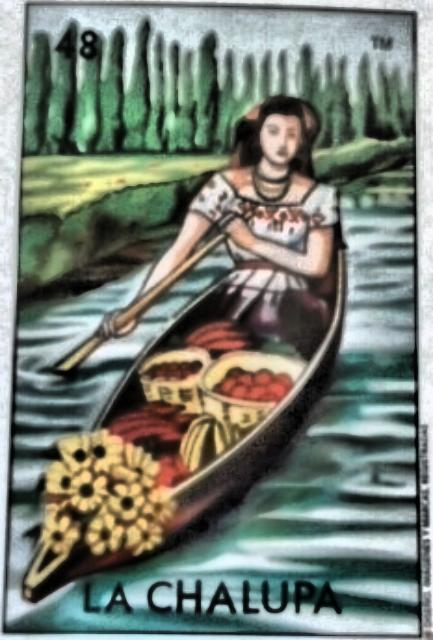La Chalupa: (5, 2, 421, 634)
